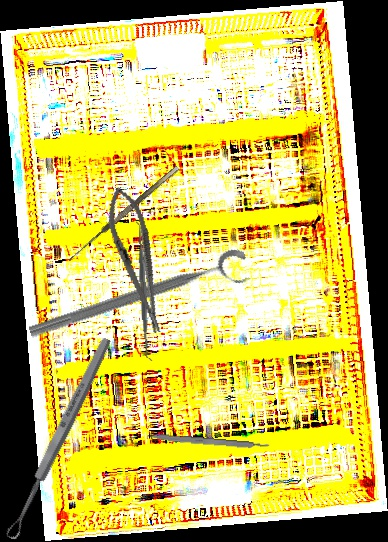Fixation Ring: (26, 245, 254, 357)
Hook Surgical: (66, 165, 185, 268)
Needle Holder: (99, 183, 175, 338)
Scalpel Handle: (146, 432, 271, 452)
Spatula Surgical: (132, 221, 155, 362)
Surgical Spoon: (3, 335, 114, 542)
